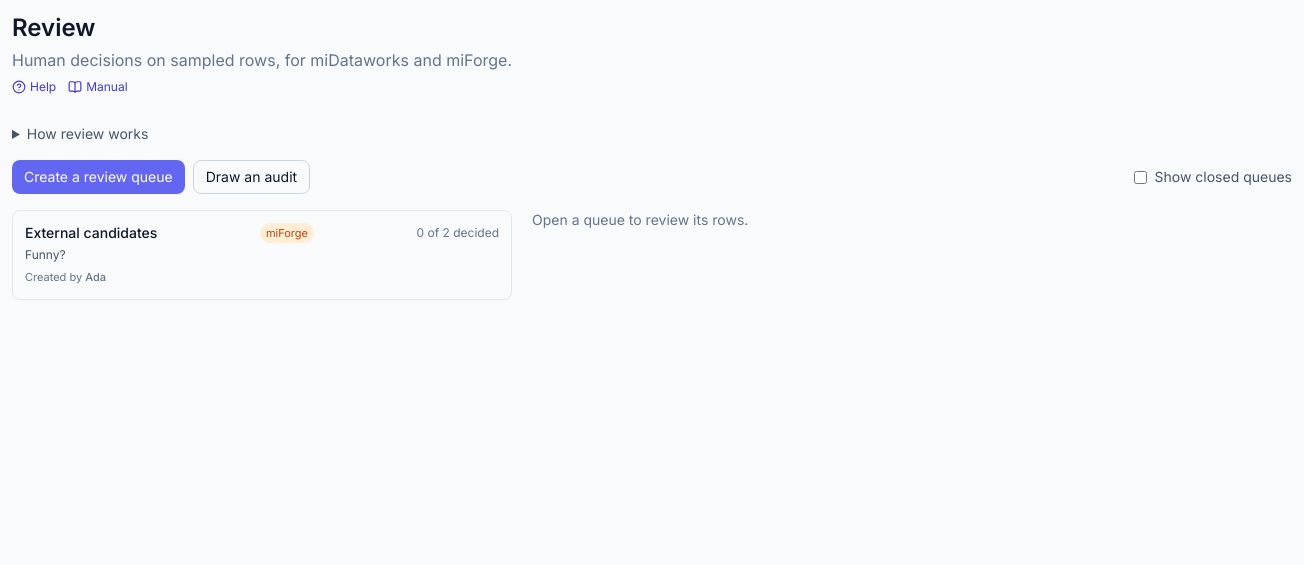
Test case: ReviewPanel keyboard and decisions › a accepts; the decision is recorded and the cursor moves on
The image size is (1304, 565).
Check: the text "miForge" is shown, box x1=260 y1=223 x2=314 y2=243
Click the button with test id "queue-card".
click(91, 232)  # box x1=12 y1=210 x2=512 y2=300
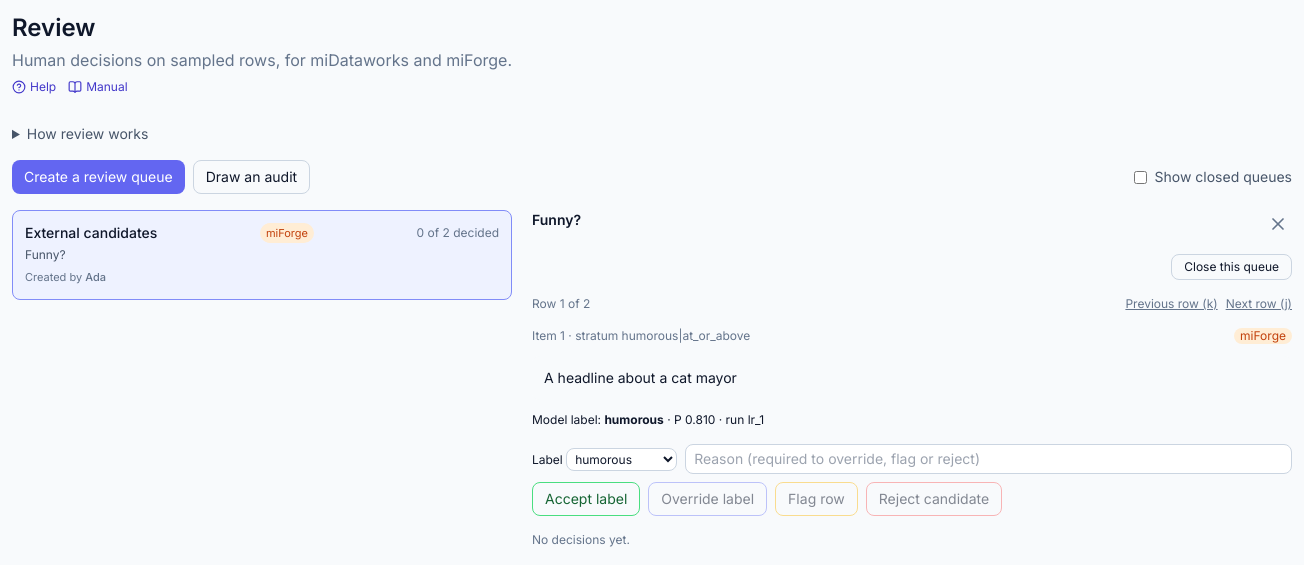
Check: the element with test id "item-view" is shown, box x1=532 y1=328 x2=1292 y2=428
Press a in the element with test id "review-panel"
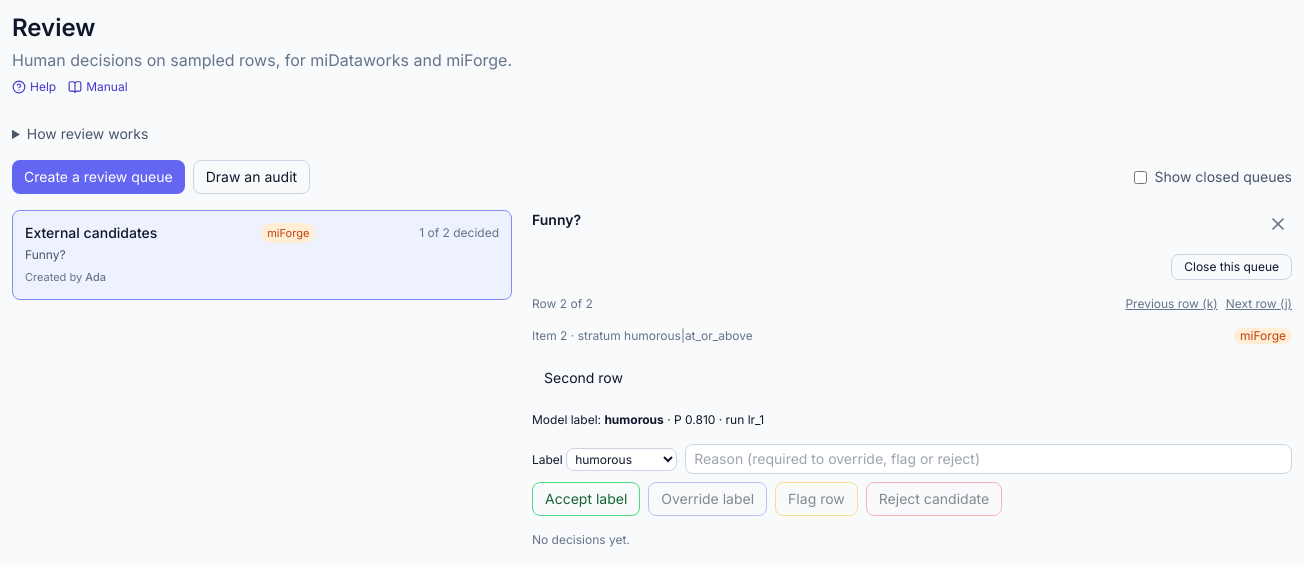
Check: the text with test id "item-text" reads "Second row", box x1=544 y1=369 x2=623 y2=386
